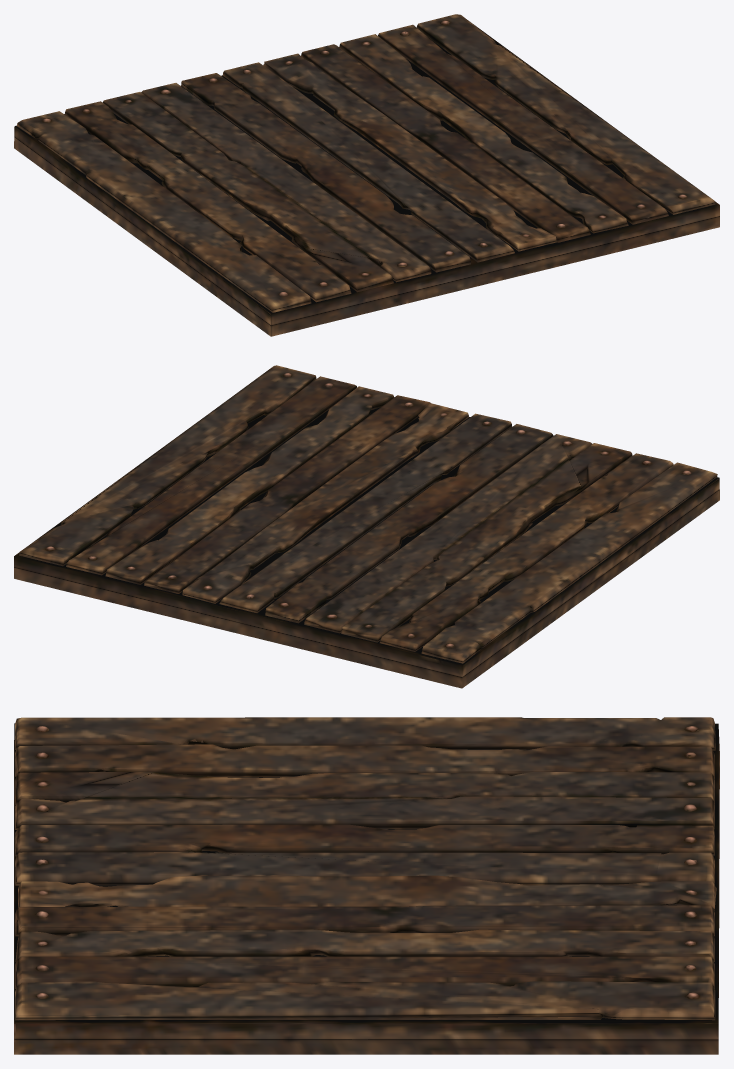
The model's file is HK_floor_worn.glb.
The picture shows the model from 3 angles, top to bottom: view 1: azimuth 30°, elevation 25°; view 2: azimuth 150°, elevation 25°; view 3: azimuth 270°, elevation 25°; orthographic projection. The views are drawn at different scales.
Visible parts, largest first — view 1: geometry_0; view 2: geometry_0; view 3: geometry_0.
Boxes of the visible parts, left/top/right/bottom form: geometry_0: left=14, top=14, right=719, bottom=336; geometry_0: left=14, top=365, right=719, bottom=688; geometry_0: left=14, top=717, right=719, bottom=1054.
Bounding box in the file's own units: 0.9658 × 0.0664 × 0.959.
Materials: 1 (1 with a texture image).
